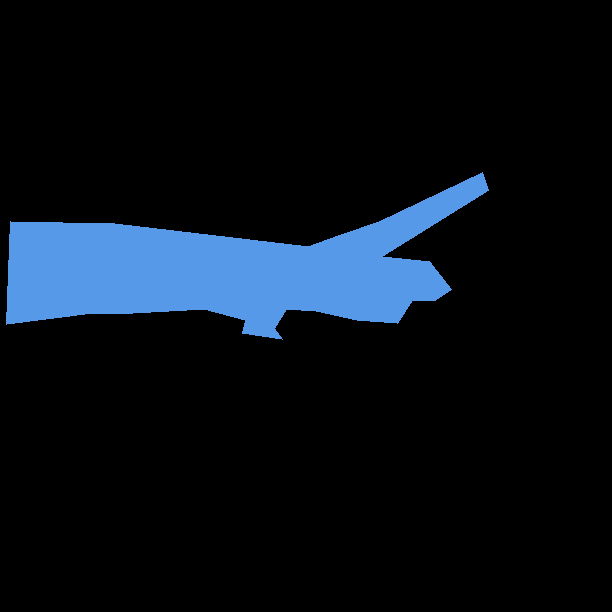Airplane: (6, 172, 488, 340)
